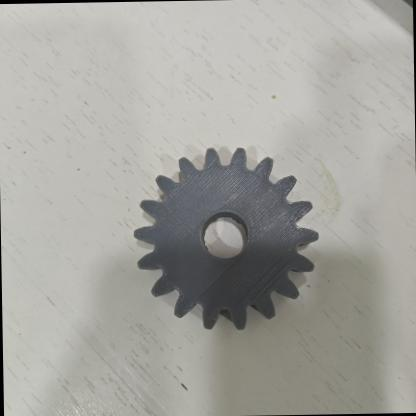gear: (122, 135, 329, 340)
